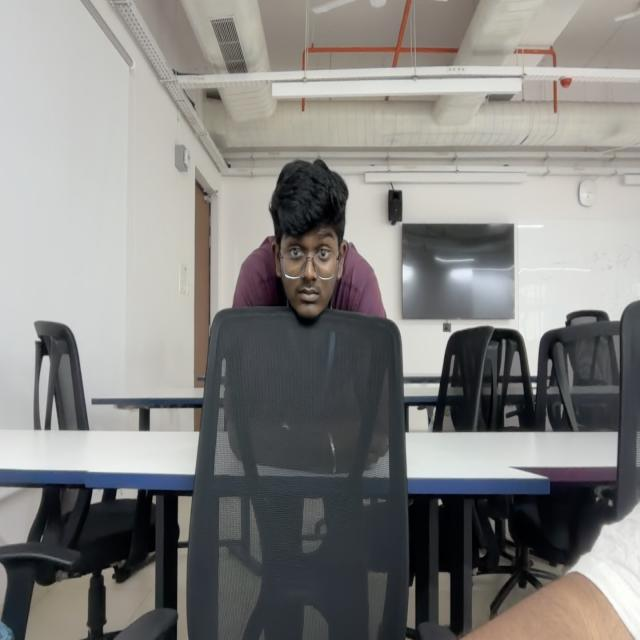ravindra: (270, 156, 349, 326)
